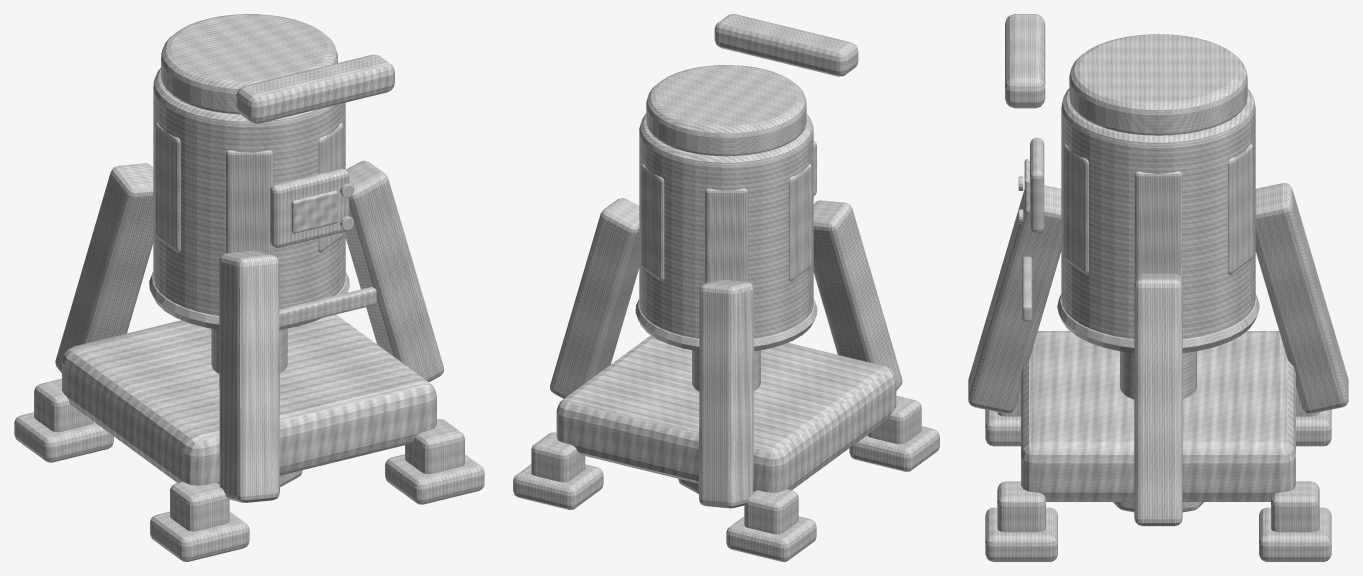
File: portable_miner_variant_a.glb
3 views of the same model, side by side, from view 1: azimuth 30°, elevation 25°; view 2: azimuth 150°, elevation 25°; view 3: azimuth 270°, elevation 25° (orthographic). The views are drawn at different scales.
Parts seen in each view (by area): view 1: Lower chassis, Motor housing, Tripod support.002, Motor upper cap, Tripod support, Tripod support.001, Carry handle.001, Cooling fin.005, Service panel bezel, Rubberized foot, Rubberized foot.002, Cooling fin.004 (+9 smaller); view 2: Lower chassis, Motor housing, Tripod support.001, Motor upper cap, Tripod support, Tripod support.002, Carry handle.001, Cooling fin.003, Rubberized foot.003, Rubberized foot.001, Cooling fin.002, Cooling fin.004 (+6 smaller); view 3: Lower chassis, Motor housing, Motor upper cap, Tripod support, Tripod support.001, Tripod support.002, Cooling fin.001, Carry handle.001, Cooling fin.002, Cooling fin.006, Rubberized foot.002, Rubberized foot.003 (+8 smaller).
Boxes of the visible parts, box(x1,y1,x2,y2) form: Lower chassis: box(62, 314, 436, 485); Motor housing: box(153, 68, 345, 315); Tripod support.002: box(219, 250, 279, 502); Motor upper cap: box(161, 14, 337, 114); Tripod support: box(345, 160, 443, 381); Tripod support.001: box(55, 163, 153, 372); Carry handle.001: box(236, 54, 394, 123); Cooling fin.005: box(225, 150, 273, 254); Service panel bezel: box(270, 168, 349, 247); Rubberized foot: box(150, 511, 249, 561); Rubberized foot.002: box(385, 454, 484, 504); Cooling fin.004: box(155, 122, 180, 252); Lower chassis: box(556, 335, 896, 492); Motor housing: box(639, 113, 813, 338); Tripod support.001: box(699, 279, 753, 508); Motor upper cap: box(646, 65, 806, 156); Tripod support: box(550, 198, 639, 398); Tripod support.002: box(813, 200, 902, 390); Carry handle.001: box(714, 14, 858, 76); Cooling fin.003: box(705, 188, 747, 283); Rubberized foot.003: box(513, 464, 603, 509); Rubberized foot.001: box(726, 516, 816, 561); Cooling fin.002: box(641, 163, 664, 281); Cooling fin.004: box(788, 163, 811, 281); Lower chassis: box(1021, 331, 1295, 501); Motor housing: box(1061, 88, 1255, 339); Motor upper cap: box(1069, 34, 1247, 135); Tripod support: box(1134, 273, 1182, 526); Tripod support.001: box(1255, 183, 1348, 413); Tripod support.002: box(968, 183, 1061, 413); Cooling fin.001: box(1134, 171, 1182, 278); Carry handle.001: box(1005, 14, 1045, 108); Cooling fin.002: box(1228, 144, 1253, 274); Cooling fin.006: box(1063, 144, 1088, 274); Rubberized foot.002: box(985, 507, 1057, 561); Rubberized foot.003: box(1259, 507, 1331, 561).
Size of what is drawn, in the model's own units: 0.9724 by 1.22 by 0.9416.
Materials: 8 (8 with a texture image).
